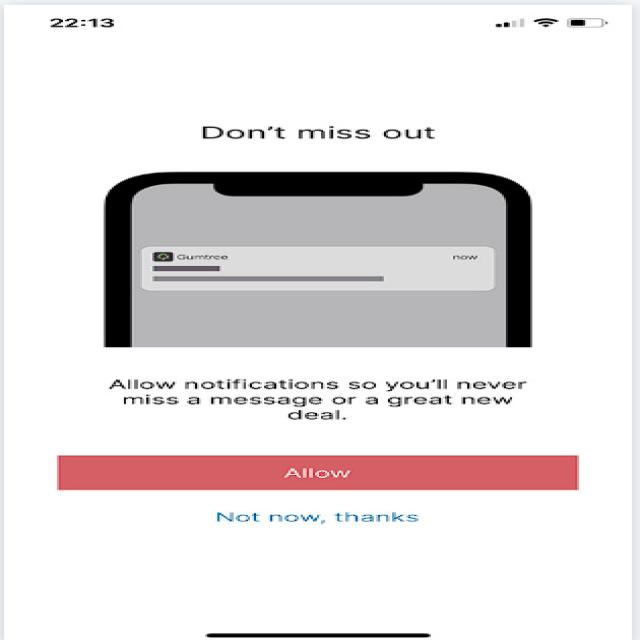button: (29, 442, 618, 501)
image: (61, 101, 588, 361)
text: (88, 366, 556, 428), (192, 503, 472, 540)
